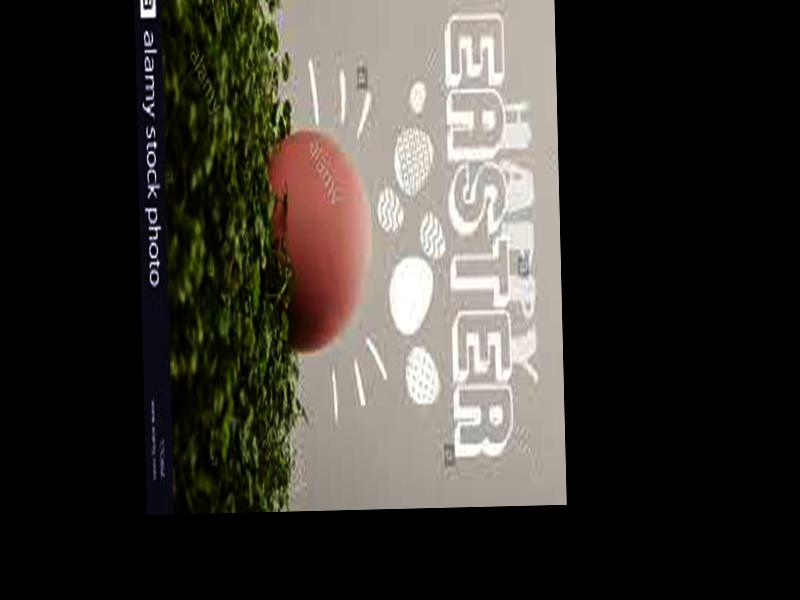Eggs: (267, 133, 372, 357)
